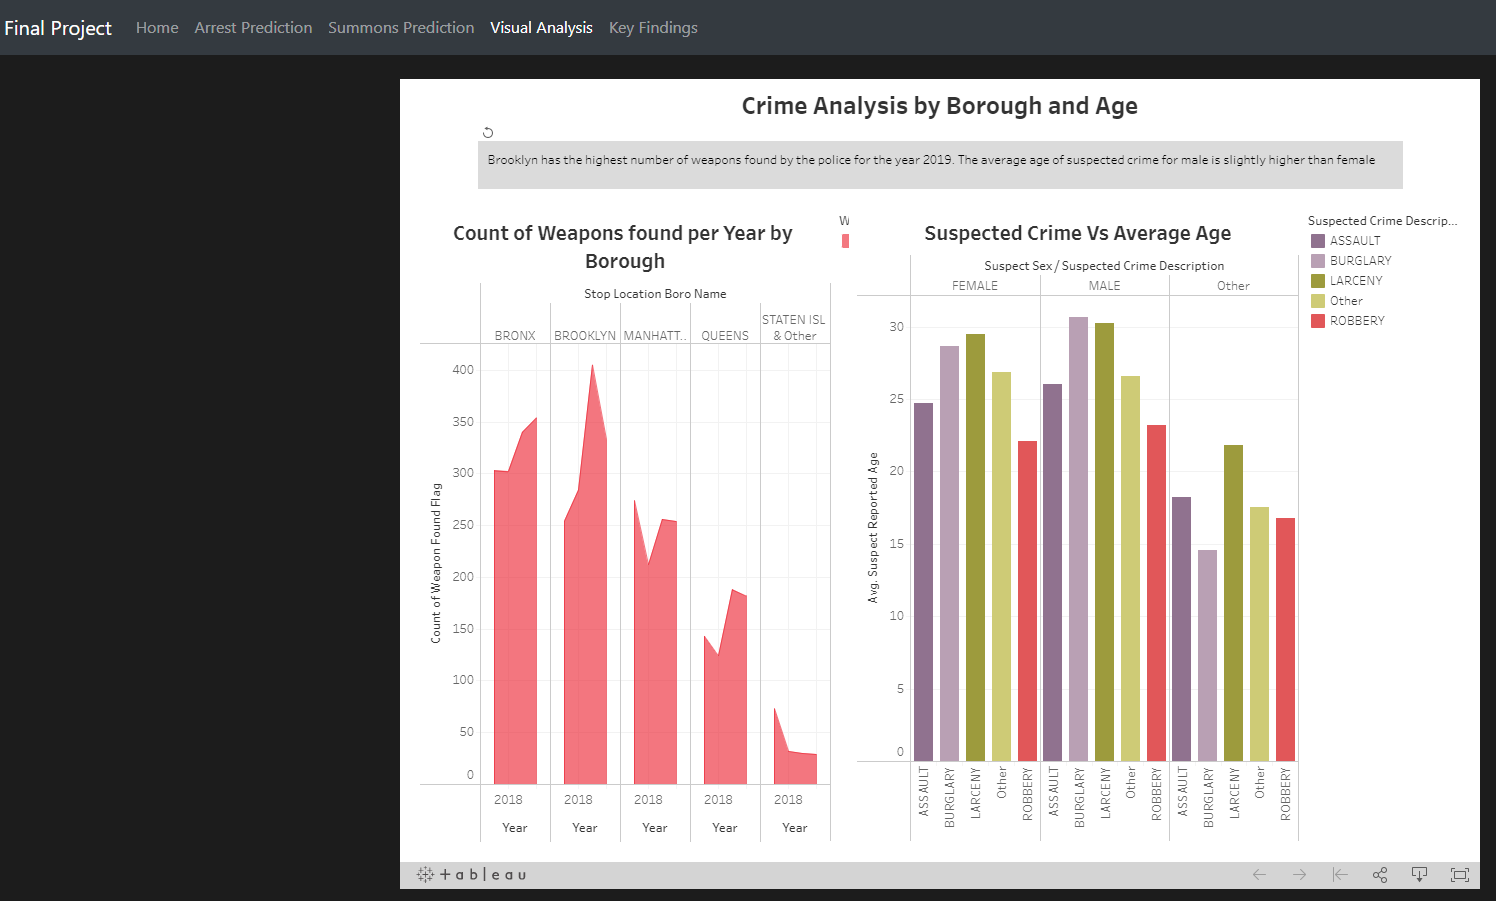

What the dashboard file says about the page in this screenshot:
{"tool":"tableau","page":{"name":"Dashboard 1","canvas":[1000,1000],"units":"permille","ordinal":0},"visuals":[{"type":"worksheet","title":"Count of Weapons","mark":"Area","rows":["WEAPON_FOUND_FLAG"],"cols":["STOP_LOCATION_BORO_NAME","YEAR"],"box":[4.6,10.3,423.6,979.3]},{"type":"legend","title":"Count of Weapons","param":"[federated.1g1g2zq0k2cyah18wx7it1v3rp9k].[none:WEAPON_FOUND_FLAG:nk]","box":[428.2,10.3,18.5,979.3]},{"type":"worksheet","title":"Crime Vs Avg. Age","mark":"Automatic","rows":["SUSPECT_REPORTED_AGE"],"cols":["SUSPECT_SEX","SUSPECTED_CRIME_DESCRIPTION"],"box":[446.8,10.3,456,979.3]},{"type":"legend","title":"Crime Vs Avg. Age","param":"[federated.1g1g2zq0k2cyah18wx7it1v3rp9k].[none:SUSPECTED_CRIME_DESCRIPTION:nk]","box":[902.8,10.3,92.6,162.8]}]}

Visuals, with their boxes on the dashboard's canvas, which has no fixed pixel size, in thousandths of its width and height (x1, y1, x2, y2). These are canvas units, not pixel positions in the 1496x901 screenshot, which may show the page scaled, cropped or inside an application window:
"Count of Weapons" worksheet (Area marks): [left=5, top=10, right=428, bottom=990]
"Count of Weapons" legend: [left=428, top=10, right=447, bottom=990]
"Crime Vs Avg. Age" worksheet: [left=447, top=10, right=903, bottom=990]
"Crime Vs Avg. Age" legend: [left=903, top=10, right=995, bottom=173]
